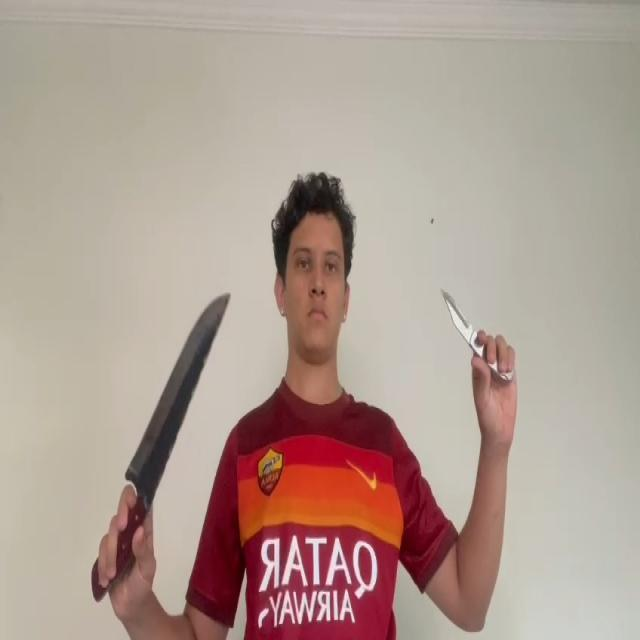knife: (123, 292, 232, 485), (441, 290, 474, 341)
